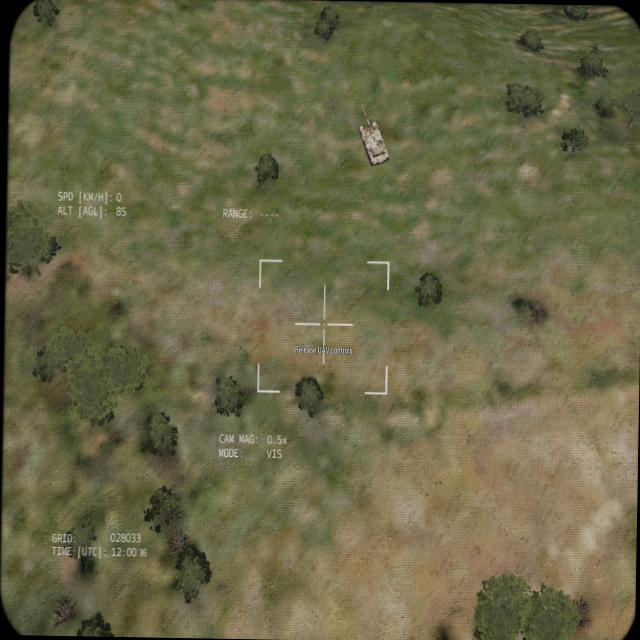tank: (356, 101, 390, 167)
